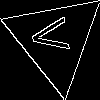V: (30, 14, 79, 55)
